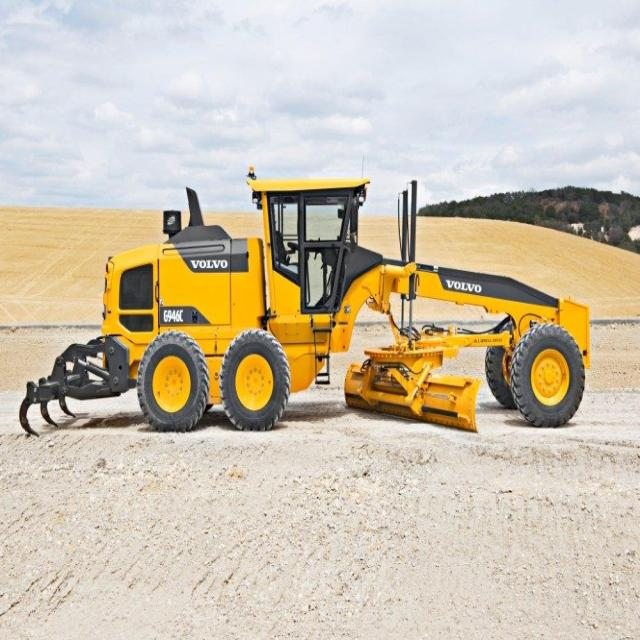buldozerpayloadergrader: (26, 161, 615, 442)
